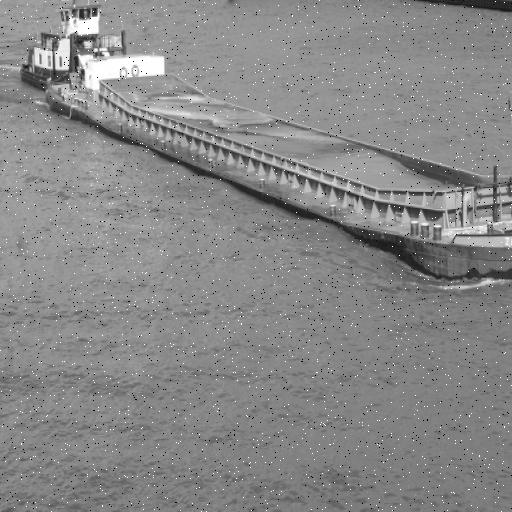tugboat: (17, 1, 135, 103)
